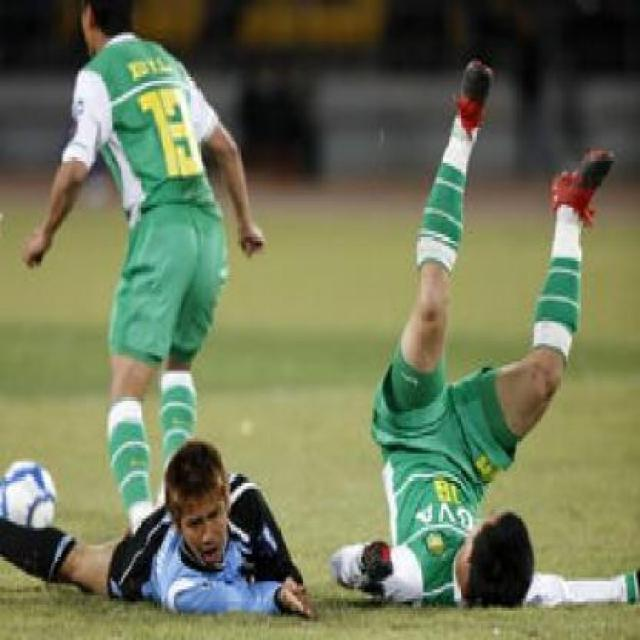fall: (316, 30, 604, 610)
